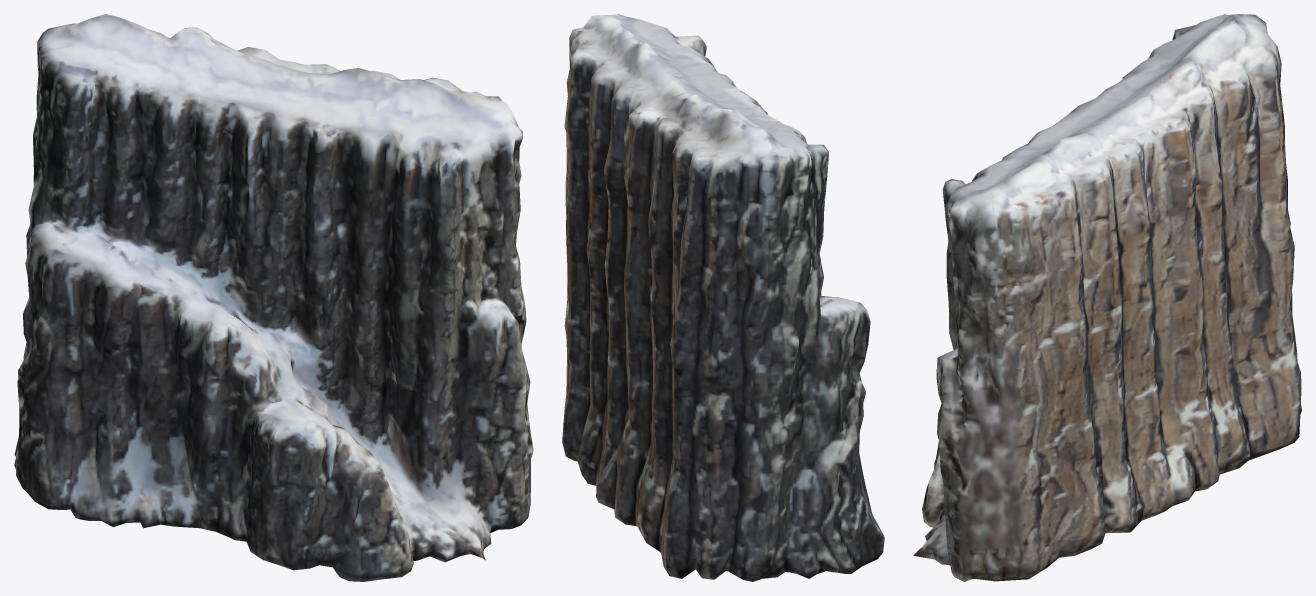
Rendered from ThirdRoom_CliffTower.fbx.
3 renders of one model, left to right at view 1: azimuth 30°, elevation 25°; view 2: azimuth 150°, elevation 25°; view 3: azimuth 270°, elevation 25°, orthographic. The views are drawn at different scales.
Parts seen in each view (by area): view 1: ThirdRoom_CliffTower_Mesh; view 2: ThirdRoom_CliffTower_Mesh; view 3: ThirdRoom_CliffTower_Mesh.
Boxes of the visible parts, bbox=[...] form: ThirdRoom_CliffTower_Mesh: bbox=[14, 14, 533, 581]; ThirdRoom_CliffTower_Mesh: bbox=[562, 14, 884, 581]; ThirdRoom_CliffTower_Mesh: bbox=[913, 14, 1301, 581].
Size of the model in its own units: 5.18 by 6 by 4.79.
1 material, 1 textured.
